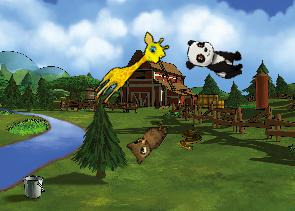giraffe: (89, 27, 173, 113)
owl: (121, 113, 170, 167)
panda: (182, 37, 247, 81)
